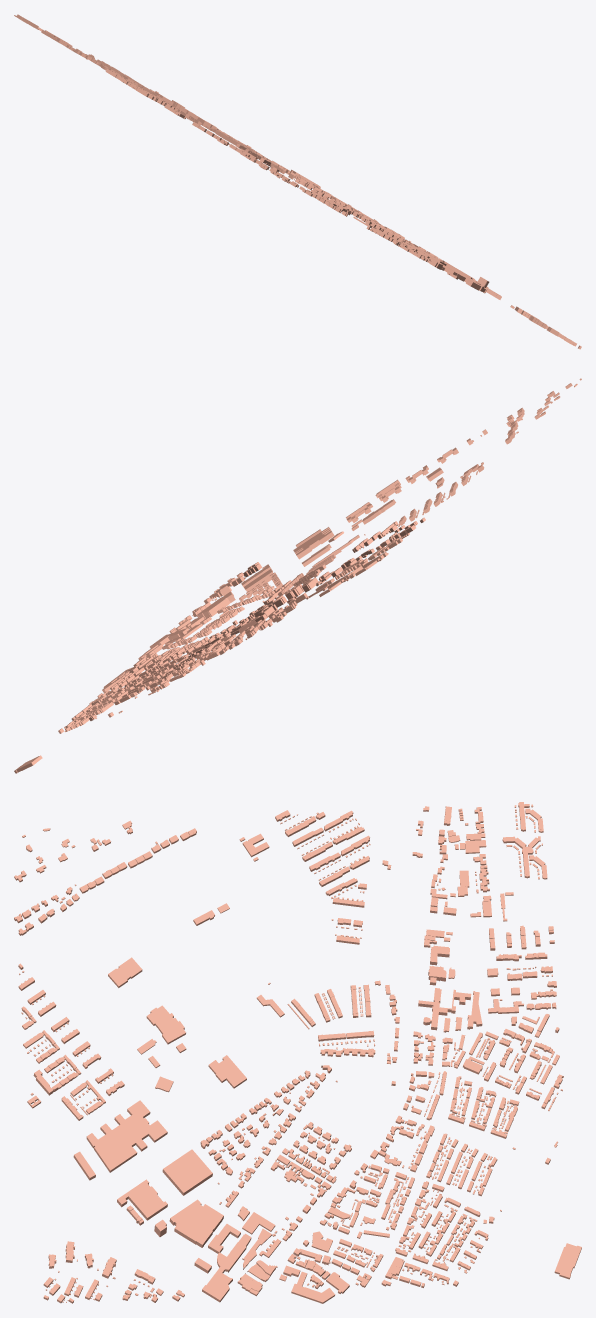
The picture shows the model from 3 angles, top to bottom: view 1: azimuth 30°, elevation 25°; view 2: azimuth 150°, elevation 25°; view 3: azimuth 270°, elevation 25°; orthographic projection. The views are drawn at different scales.
Bounding box in the file's own units: 1046 × 767 × 1270.
